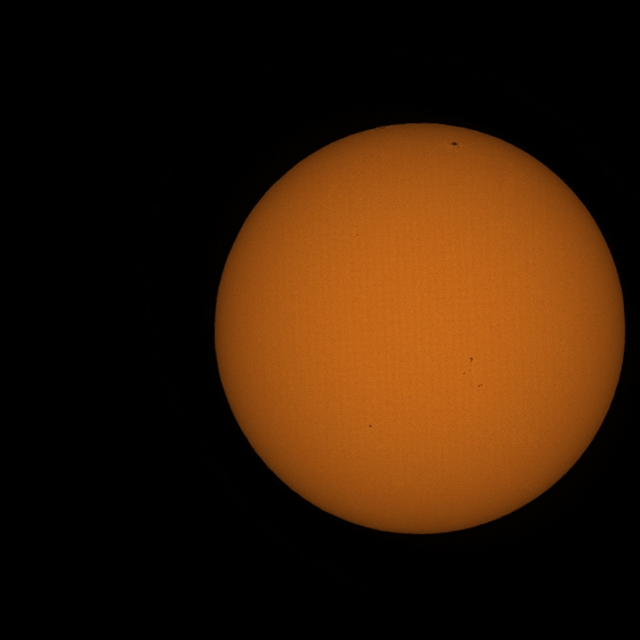sunspot: (450, 141, 460, 148), (476, 382, 483, 388), (469, 356, 474, 362), (463, 370, 467, 376), (368, 424, 372, 428)
